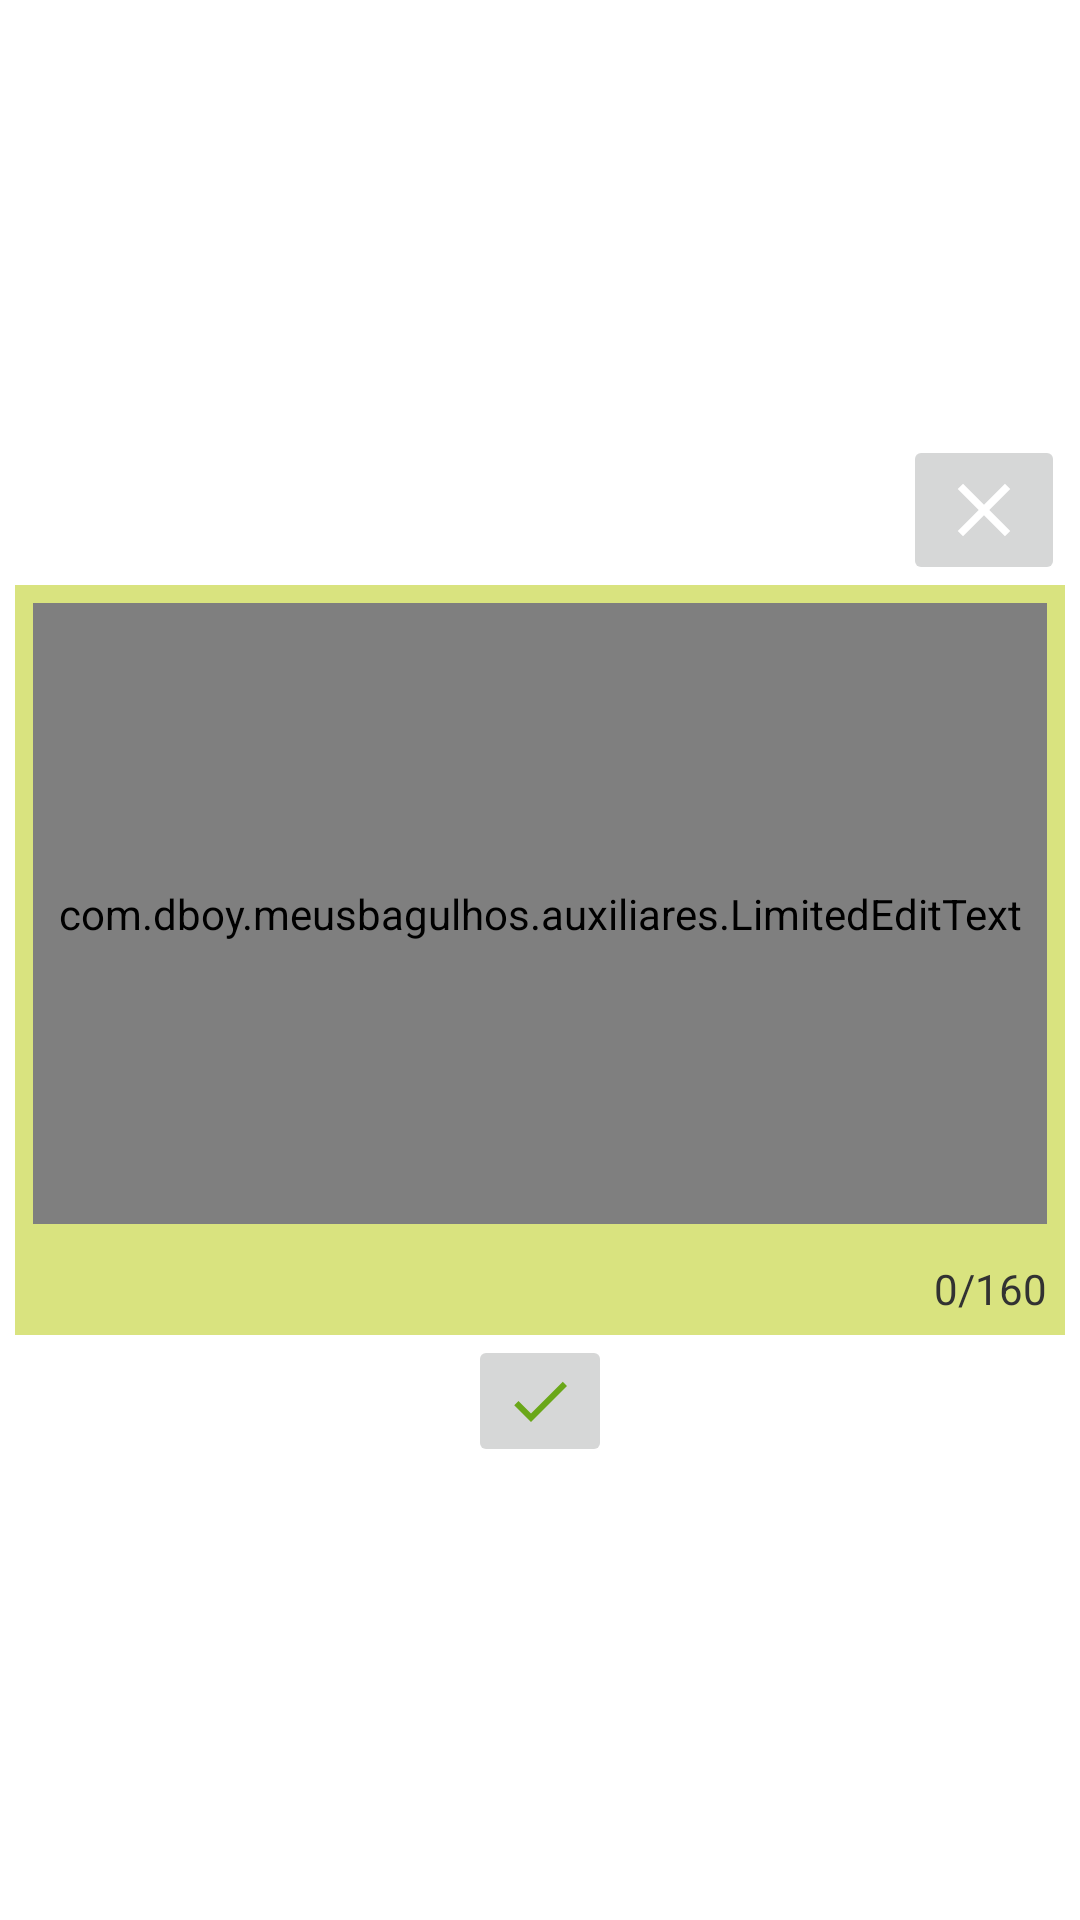

Point at icon controls on the screen. Image size 1080 × 1920, points as (x=x, y=y).
check: (x=540, y=1401)
close: (x=984, y=510)
